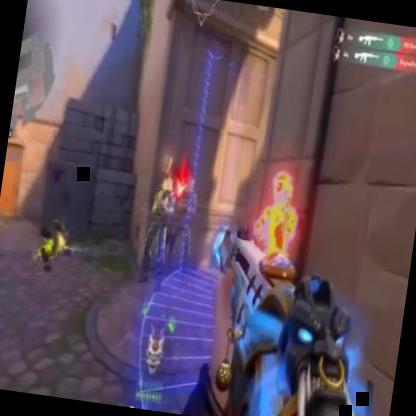enemy: (230, 161, 309, 388)
enemy_head: (269, 172, 292, 208)
